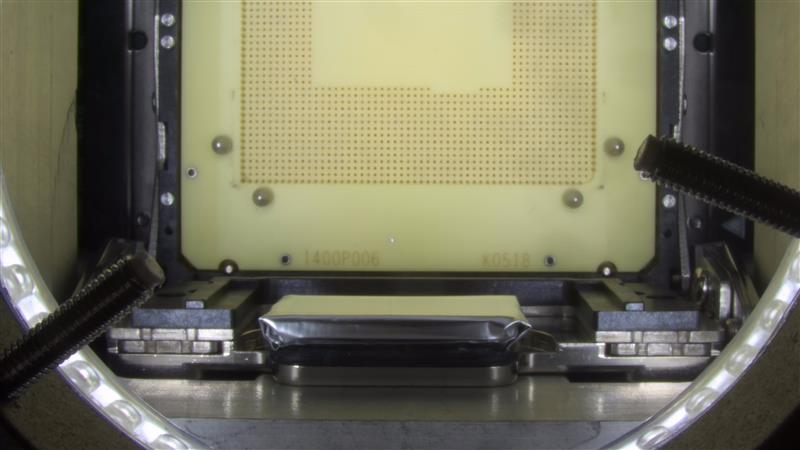normal: (256, 293, 536, 366)
